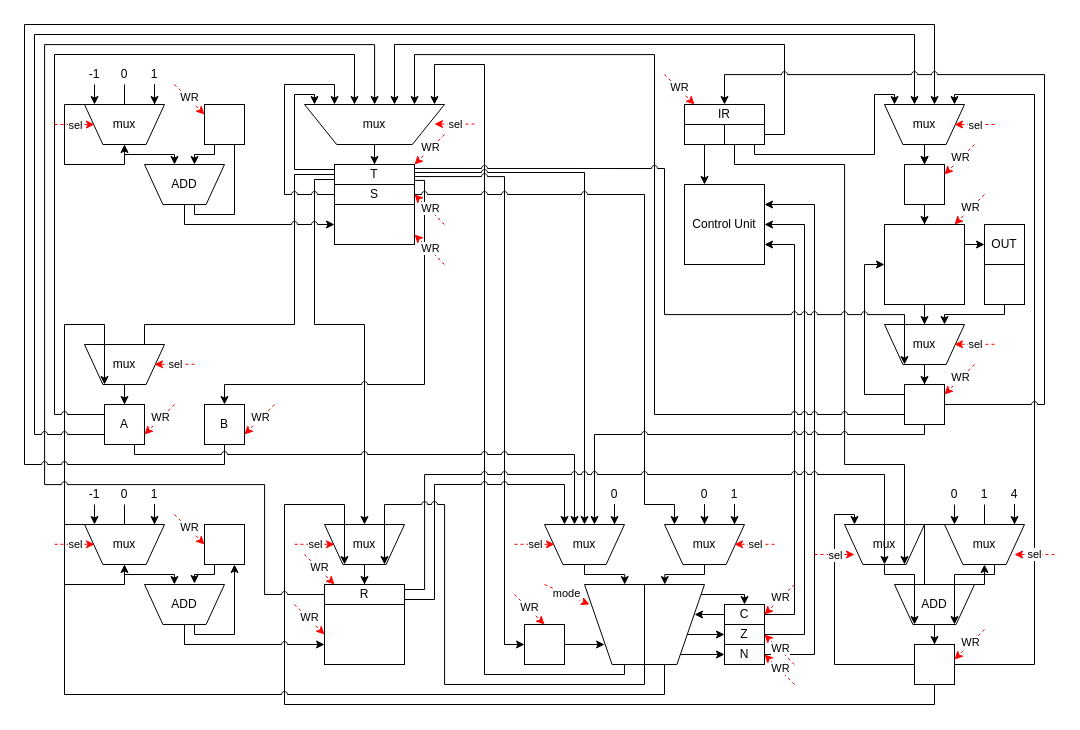
The diagram is 1080 pixels wide and 730 high, and some of its shapes have lost their labels. Here are the shapes that lost their labels. From the top down, the box of each, then its label:
(204, 104, 244, 144): SP
(684, 124, 724, 144): opcode
(724, 124, 764, 144): lit
(904, 164, 944, 204): AR
(334, 204, 414, 244): DS_RAM
(884, 224, 964, 304): Memory
(984, 264, 1024, 304): IN
(904, 384, 944, 424): DR
(204, 524, 244, 564): RSP
(324, 604, 404, 664): RS_RAM
(524, 624, 564, 664): EAM
(584, 584, 704, 664): ALU
(914, 644, 954, 684): PC
